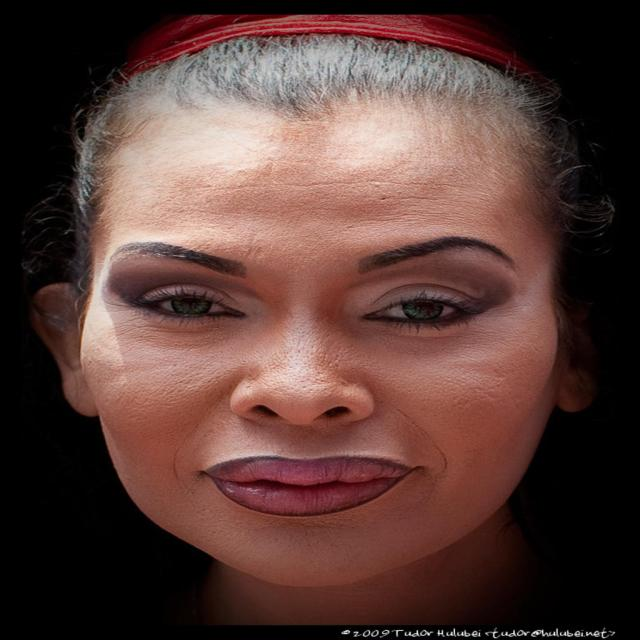Face: (56, 60, 590, 573)
